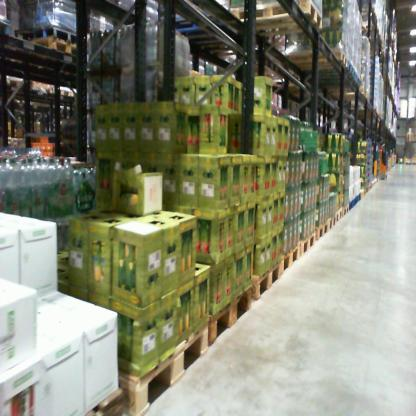pallet: (121, 319, 207, 414), (228, 2, 327, 42), (201, 280, 252, 342), (167, 8, 233, 45), (244, 253, 284, 302), (274, 49, 349, 75), (24, 34, 88, 64), (274, 240, 301, 280), (87, 387, 125, 415), (22, 72, 55, 98), (306, 61, 354, 78), (1, 67, 28, 93), (297, 227, 317, 259), (309, 73, 363, 84), (56, 82, 82, 100), (314, 219, 330, 240), (331, 205, 344, 224), (337, 204, 350, 222), (325, 214, 337, 230)
pallet_truck: (366, 116, 392, 182)
